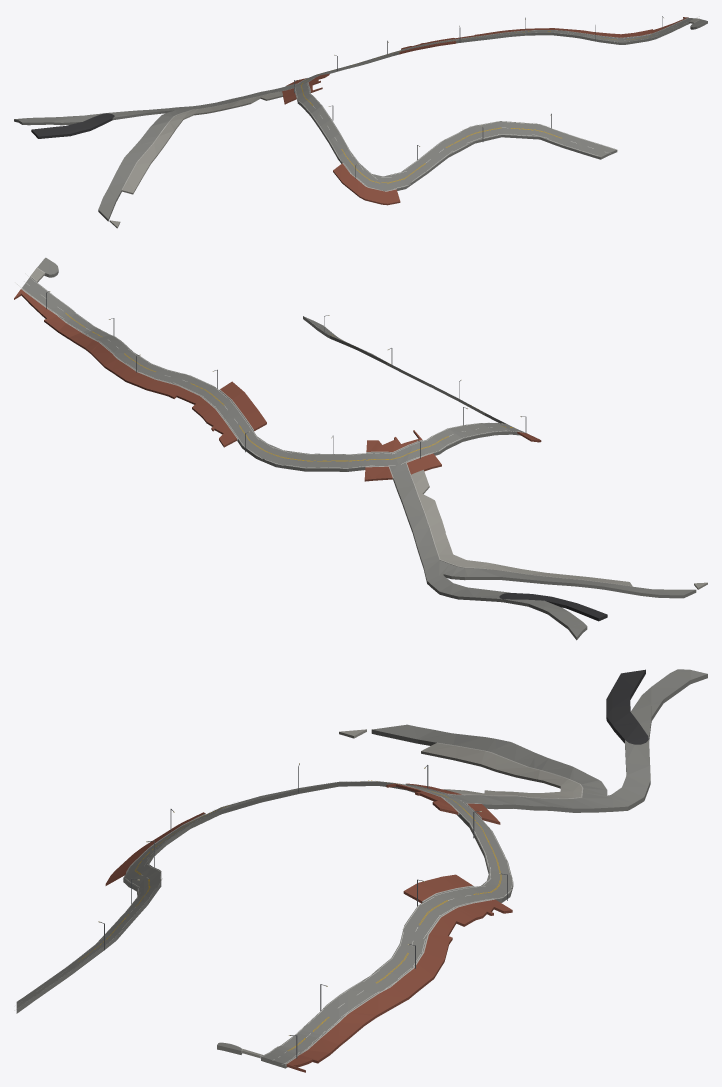
The picture shows the model from 3 angles, top to bottom: view 1: azimuth 30°, elevation 25°; view 2: azimuth 150°, elevation 25°; view 3: azimuth 270°, elevation 25°; orthographic projection. The views are drawn at different scales.
Size of the model in its own units: 297 by 48.84 by 178.
